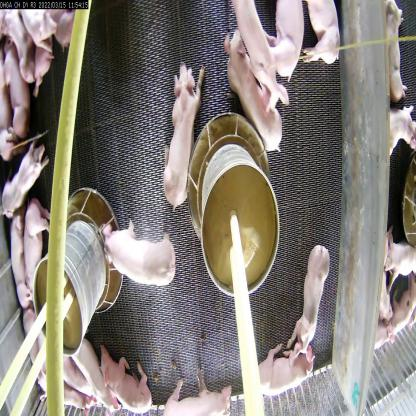Pig: (222, 28, 283, 157), (160, 55, 208, 213), (229, 0, 291, 119), (99, 217, 180, 294), (285, 244, 328, 357), (245, 335, 318, 401), (258, 0, 308, 87), (104, 335, 154, 412), (0, 144, 49, 222), (163, 372, 235, 415), (300, 0, 343, 70), (69, 335, 106, 415), (20, 200, 48, 294), (7, 218, 33, 309), (23, 1, 59, 56)
